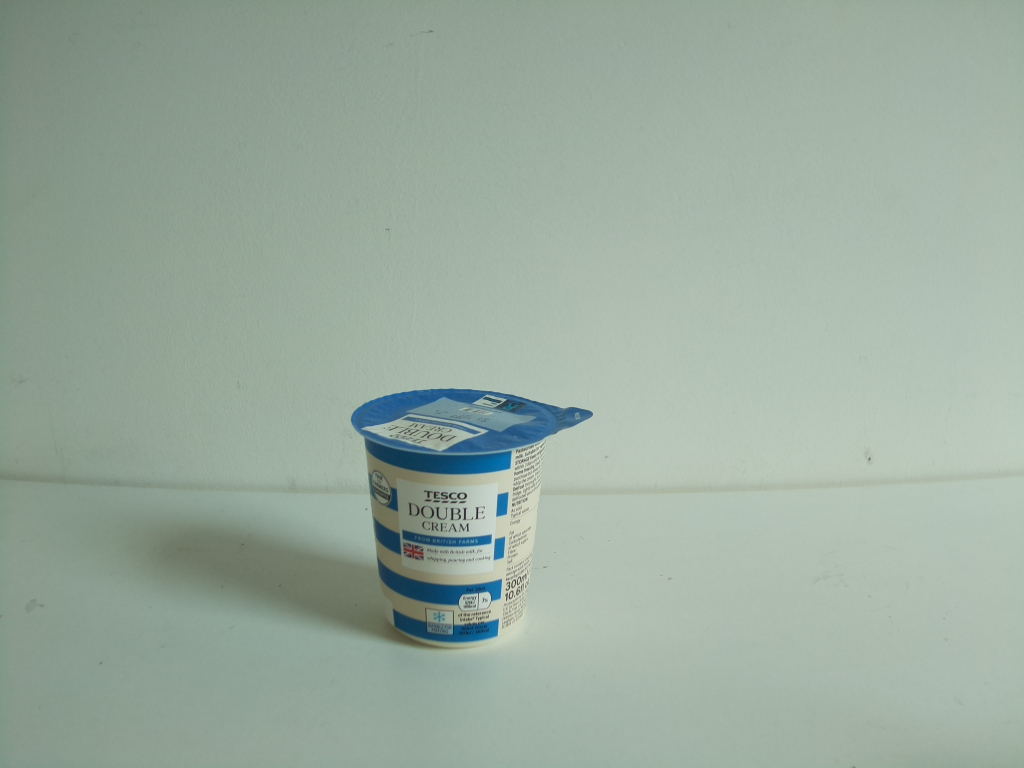cream: (352, 389, 594, 652)
